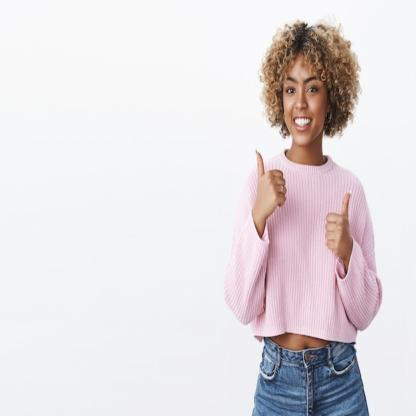thumb_up: (252, 145, 289, 216), (322, 188, 358, 260)
